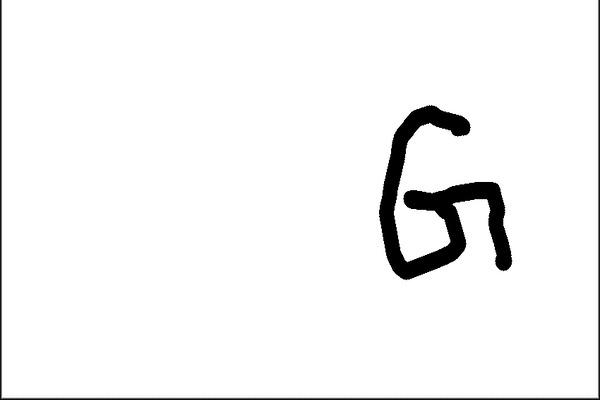G: (374, 102, 516, 283)
